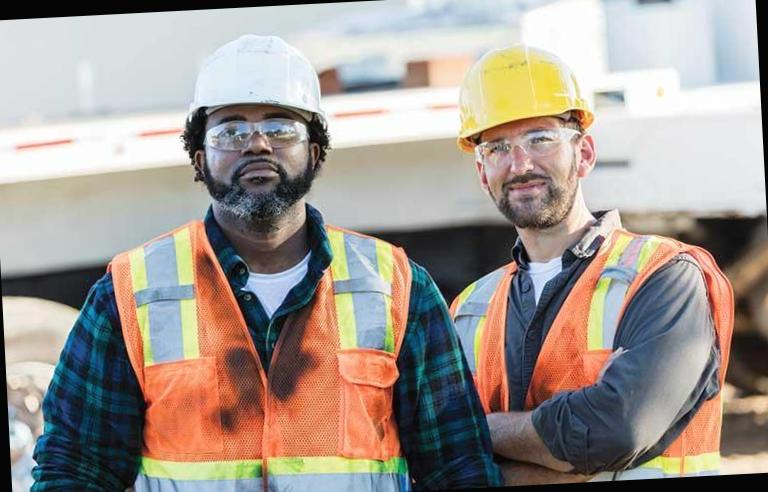helmet: (177, 30, 334, 140), (453, 46, 592, 131)
person: (60, 23, 486, 492), (421, 26, 748, 489)
